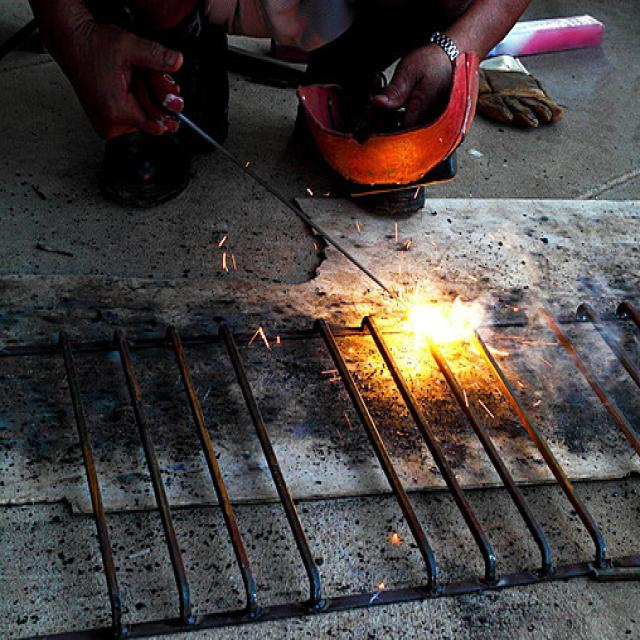fire: (399, 300, 485, 345)
